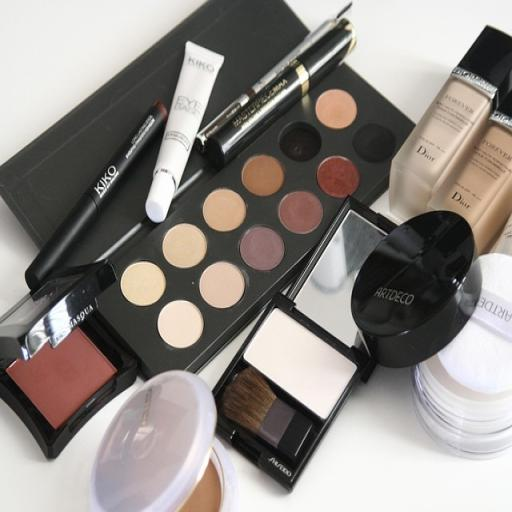lipstick: (25, 101, 167, 291)
